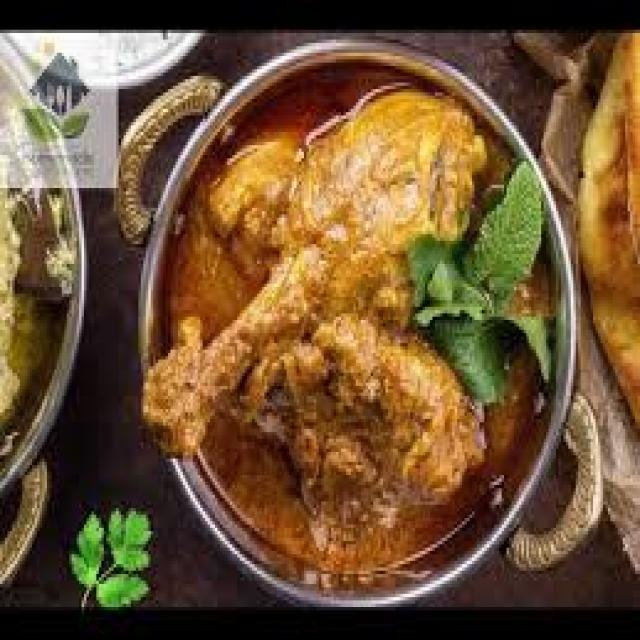Chicken Curry: (146, 52, 546, 580)
